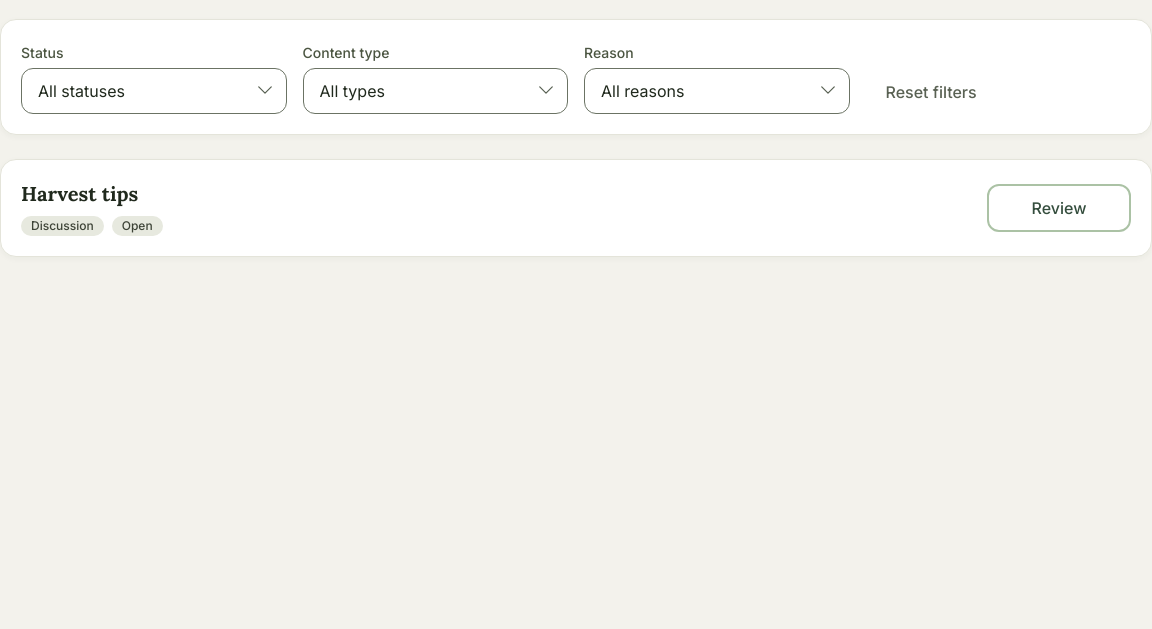
Test: AdminReportsPage.vue › marks missing targets unavailable and only allows dismissal or no action
The width and height of the screenshot is (1152, 629).
What coordinates should you click on to do the following:
click the button "Review"
I would click on:
 (1059, 208)
Its box is [987,184,1131,232].
(page scrolled)
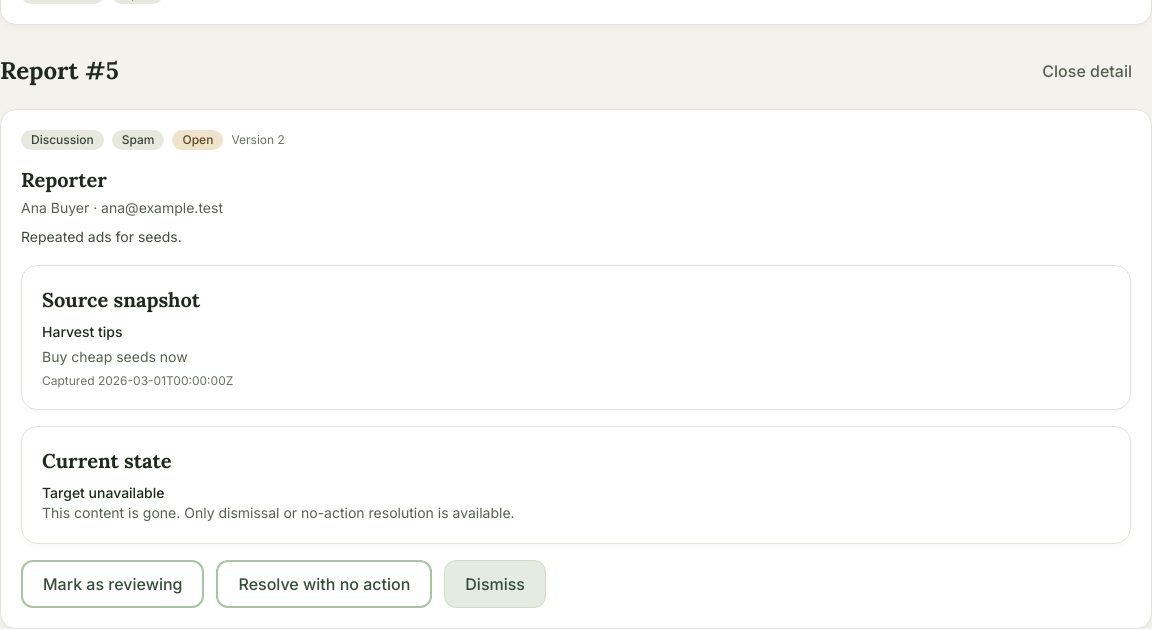
Now the text "Target unavailable" is shown, box [42,484,164,500]
Now the button with test id "report-decision-resolve-no-action" is shown, box [216,560,432,608]
Now the button with test id "report-decision-dismiss" is shown, box [444,560,546,608]
